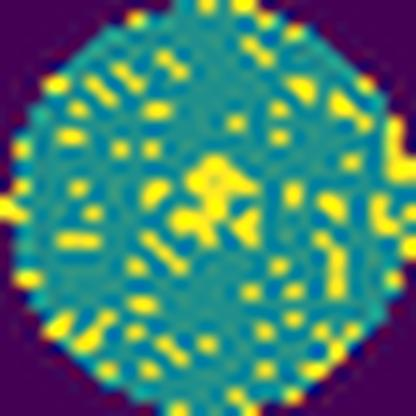Center: (165, 150, 266, 258)
